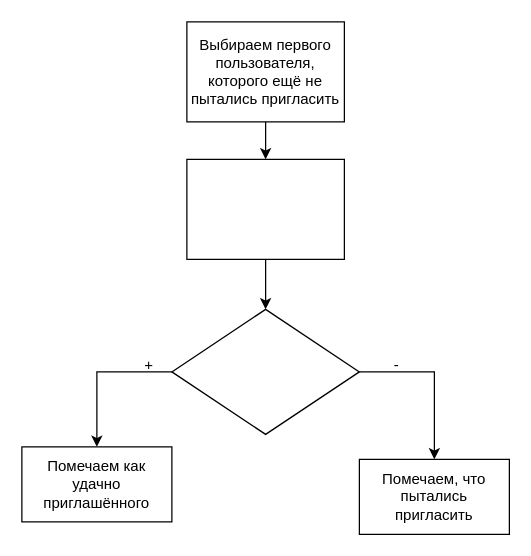
This 531x556 diagram has some shape labels left out. The shapes that lost their labels are listed below. From the top down, each one's box as (x1, y1, x2, y2) in pixels, then its label:
(186, 158, 344, 259): Отправляем инвайт с помощью клиентского апи
(171, 308, 359, 434): Удалось пригласить?
